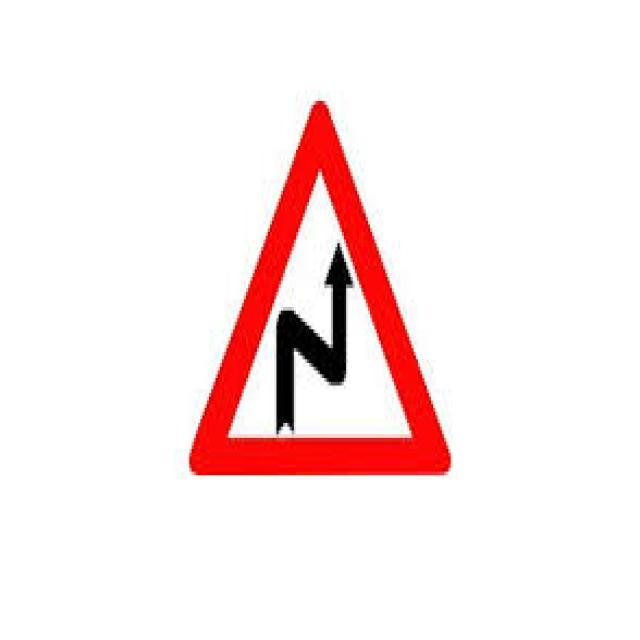right reverse bend: (184, 89, 453, 494)
